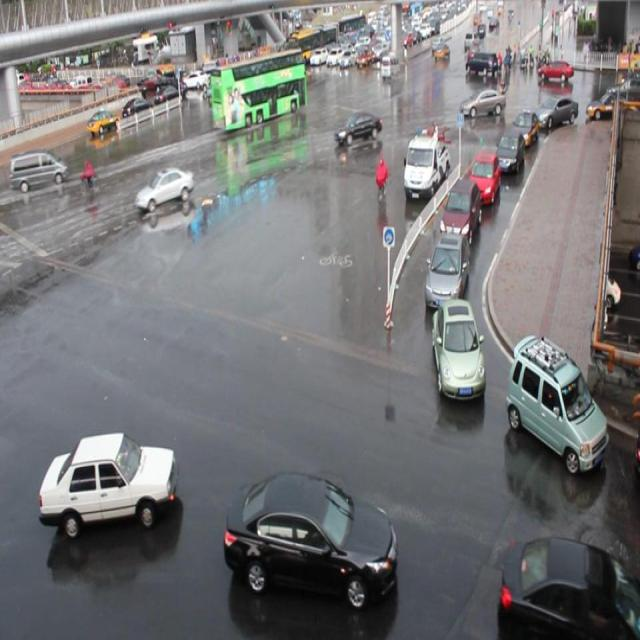bus: (400, 129, 450, 203)
car: (224, 469, 396, 607), (503, 327, 609, 472), (498, 535, 640, 640), (38, 431, 178, 536), (431, 298, 484, 400), (425, 230, 469, 306), (439, 178, 480, 242), (136, 167, 193, 208), (467, 152, 500, 205), (334, 111, 382, 147), (533, 95, 577, 131), (460, 86, 506, 117), (493, 128, 524, 172), (509, 109, 537, 147)
truck: (11, 149, 67, 190)
van: (212, 50, 306, 127)
